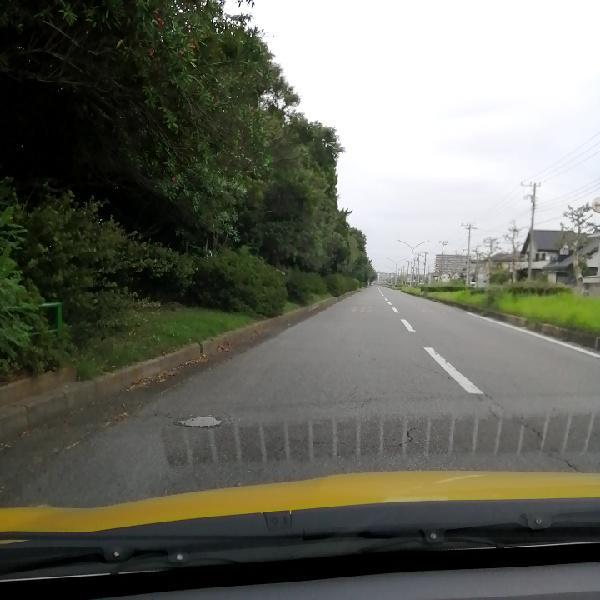D00: (479, 387, 574, 468), (372, 422, 427, 453)
